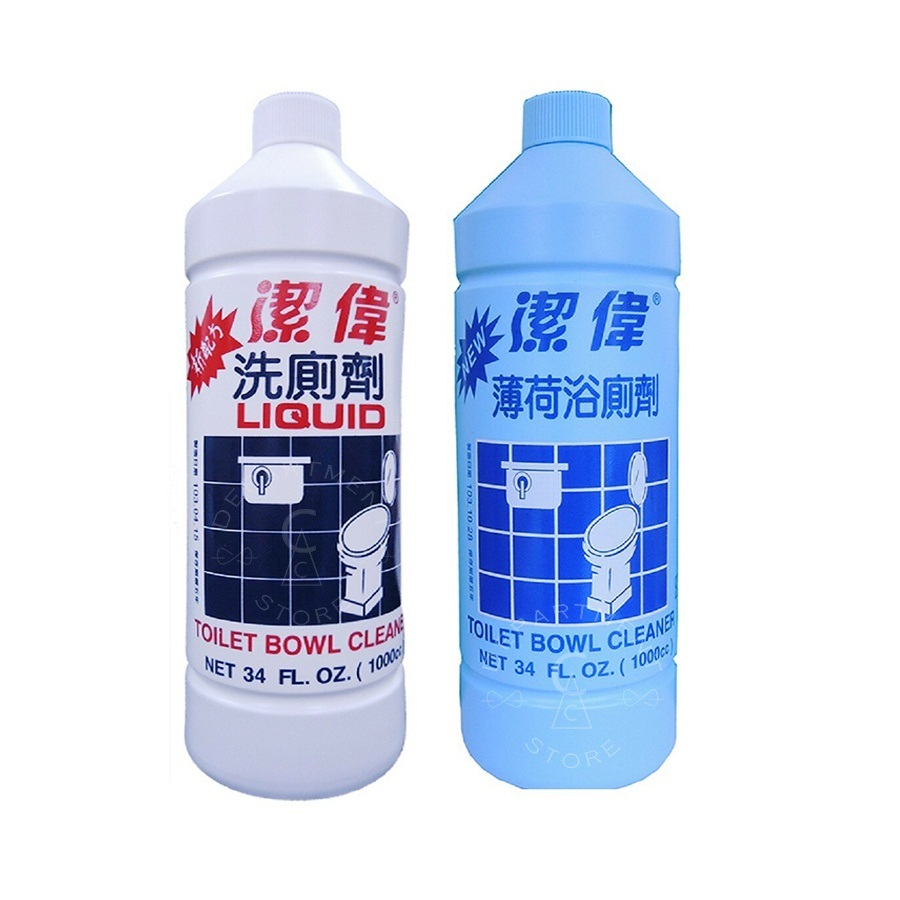cleaner: (170, 88, 418, 804), (446, 77, 682, 796)
